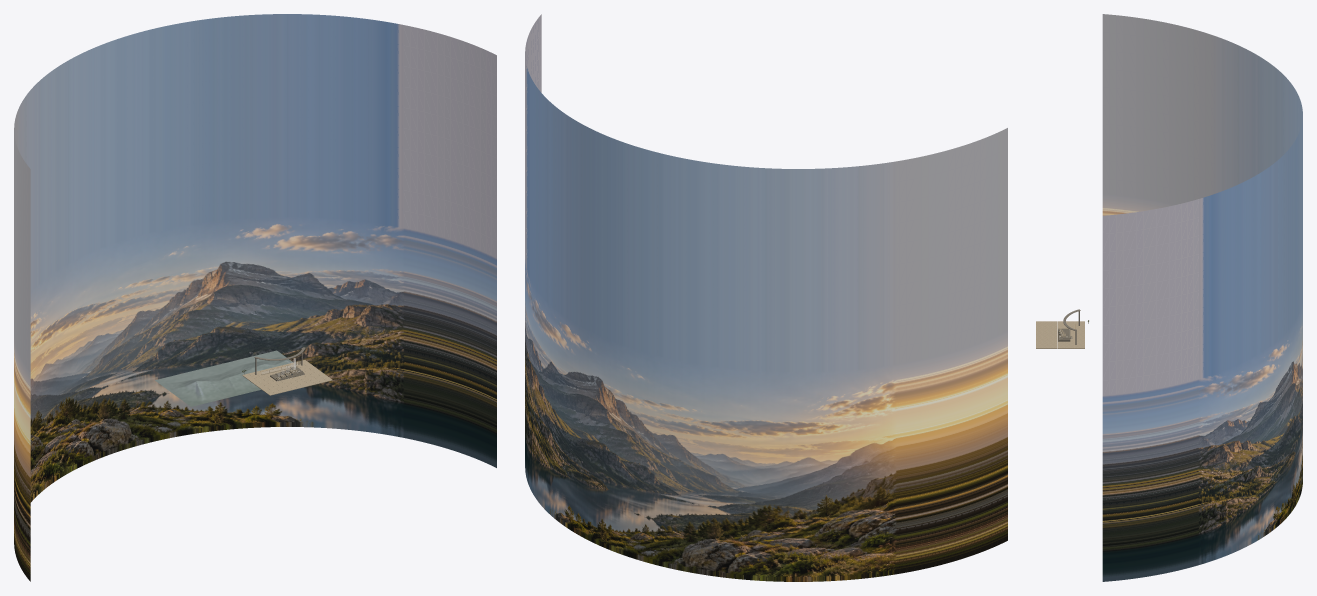
File: C03_tree_transform_COMPARISON_FULL.glb
The picture shows the model from 3 angles, left to right: view 1: azimuth 30°, elevation 25°; view 2: azimuth 150°, elevation 25°; view 3: azimuth 270°, elevation 25°; orthographic projection. The views are drawn at different scales.
Visible parts, largest first — view 1: C03_ENV__original_fictional_far_vista, Near_sculptural_mountains, C03_ENV__continuous_tiled_floor; view 2: C03_ENV__original_fictional_far_vista; view 3: C03_ENV__original_fictional_far_vista, C03_ENV__continuous_tiled_floor.
Boxes of the visible parts, x1,y1,x2,y2 form: C03_ENV__original_fictional_far_vista: [14, 14, 496, 581]; Near_sculptural_mountains: [155, 350, 292, 406]; C03_ENV__continuous_tiled_floor: [242, 360, 332, 395]; C03_ENV__original_fictional_far_vista: [525, 14, 1007, 581]; C03_ENV__original_fictional_far_vista: [1102, 14, 1302, 581]; C03_ENV__continuous_tiled_floor: [1036, 321, 1084, 348].
Size of the model in its own units: 118 by 100 by 66.07.
Materials: 25 (4 with a texture image).
